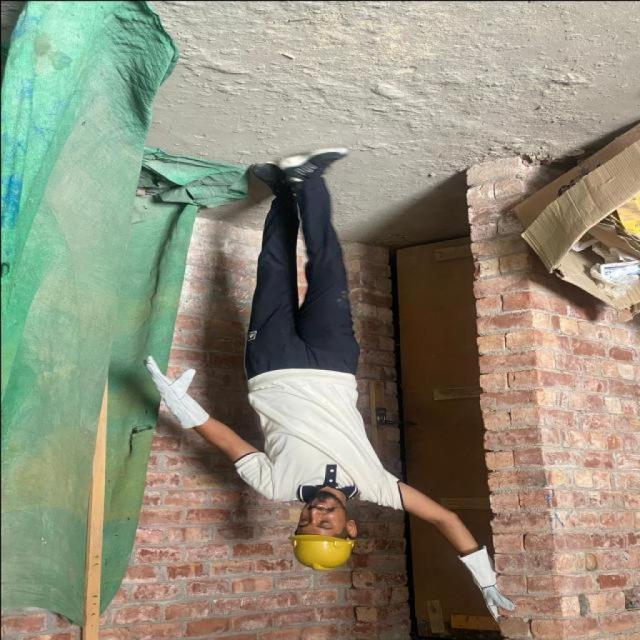Gloves-Detection: (140, 357, 213, 434), (460, 542, 510, 618)
